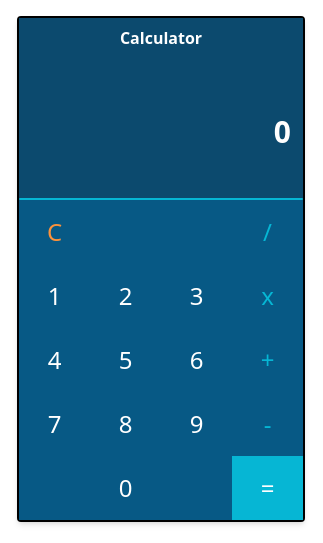
Test case: Teste do componente App › Deve somar 4 + 7 e o resultado deverá mostrar 11 corretamente
Note: Clique nos botões para inserir os números e operador
Click the text with test id "4": (54, 360) [48,343,61,376]
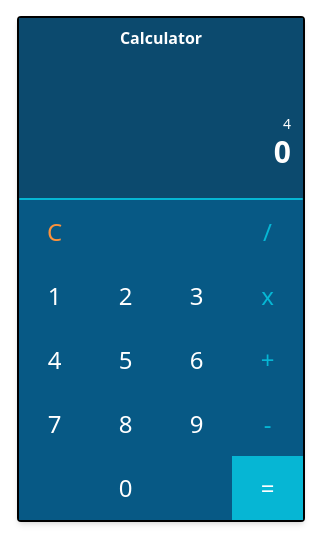
Click the text with test id "+": (267, 360) [261,343,274,376]
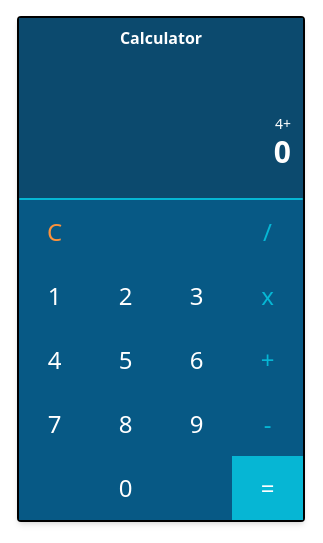
Click the text with test id "7": (54, 424) [48,407,61,440]
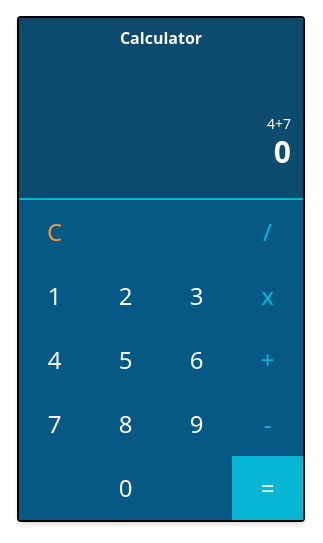
Click the text with test id "=": (268, 488) [232,456,303,520]
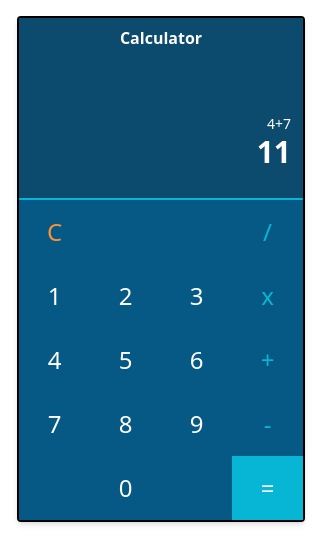
Now the text with test id "result" reads "11", box [257,131,291,172]
